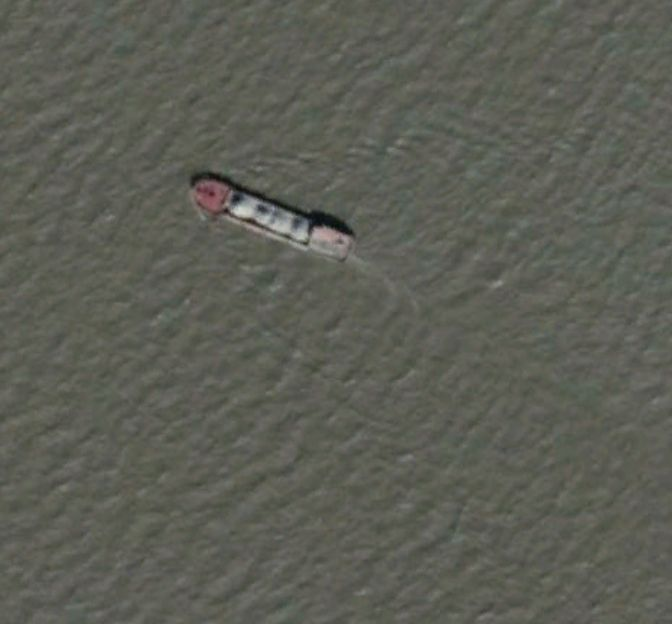boat: (183, 171, 355, 263)
